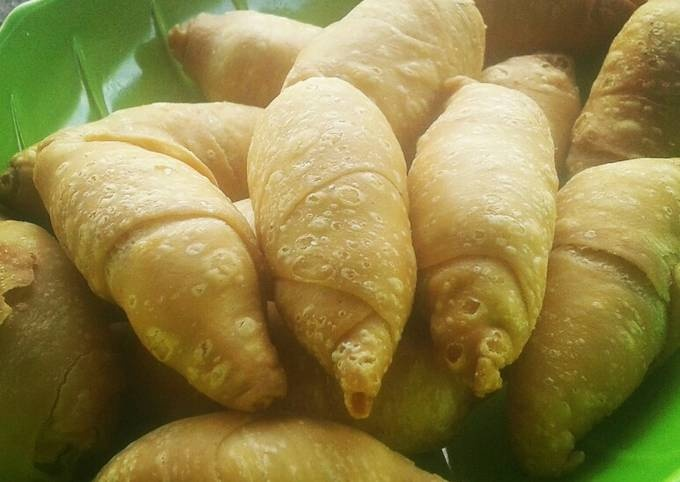pisang_molen: (31, 132, 289, 416), (246, 77, 418, 420), (408, 82, 559, 399)
